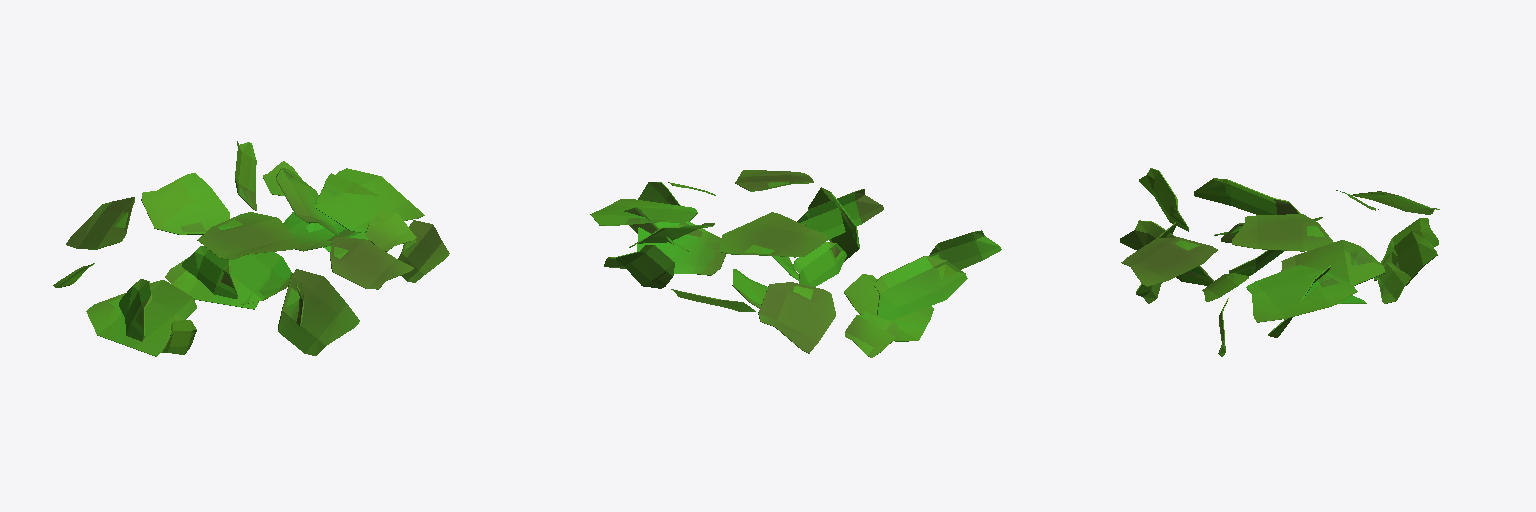
The picture shows the model from 3 angles: view 1: azimuth 30°, elevation 25°; view 2: azimuth 150°, elevation 25°; view 3: azimuth 270°, elevation 25°; orthographic projection.
Visible parts, largest first — view 1: Cube.020; view 2: Cube.020; view 3: Cube.020.
Boxes of the visible parts, box(x1,y1,x2,y2) form: Cube.020: box(53, 141, 449, 356); Cube.020: box(590, 170, 1001, 357); Cube.020: box(1120, 168, 1439, 356).
Bounding box in the file's own units: 1.96 × 0.5828 × 1.67.
1 materials, 1 textured.